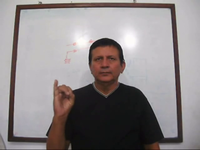oi: (50, 78, 80, 119)
